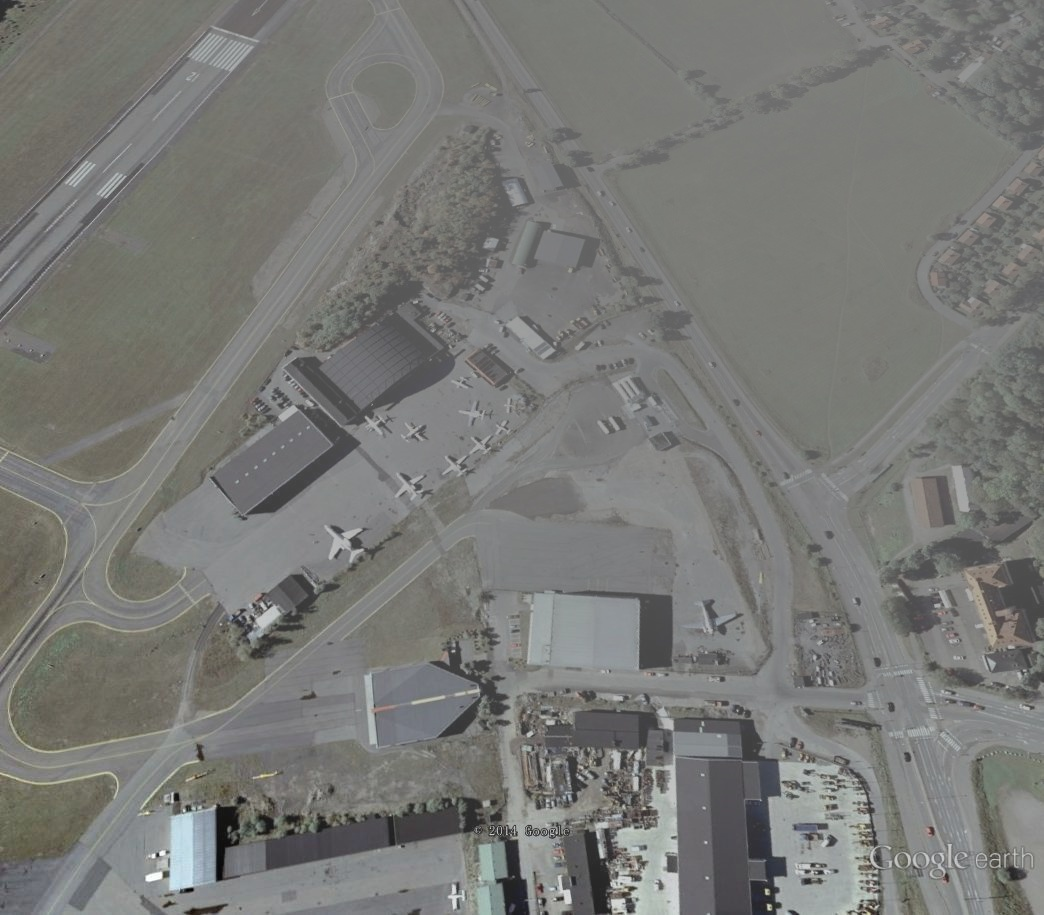aircraft: (677, 599, 742, 637), (323, 523, 369, 563), (393, 471, 428, 502), (439, 453, 474, 479), (459, 400, 487, 428), (398, 422, 428, 444), (468, 435, 495, 458), (364, 415, 388, 439), (494, 419, 515, 438), (501, 397, 520, 417), (451, 376, 474, 391)
